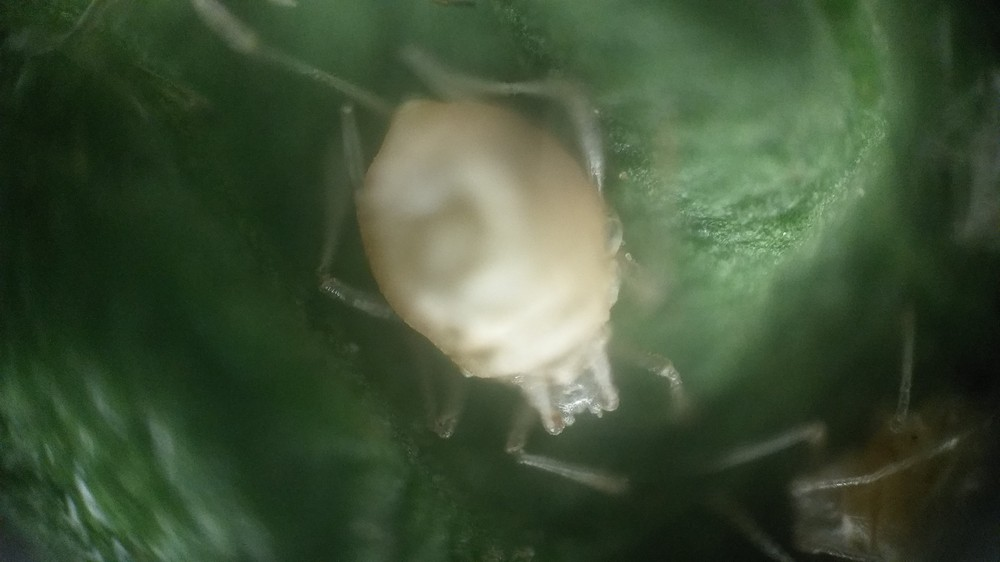Pulgon: (250, 42, 777, 534)
